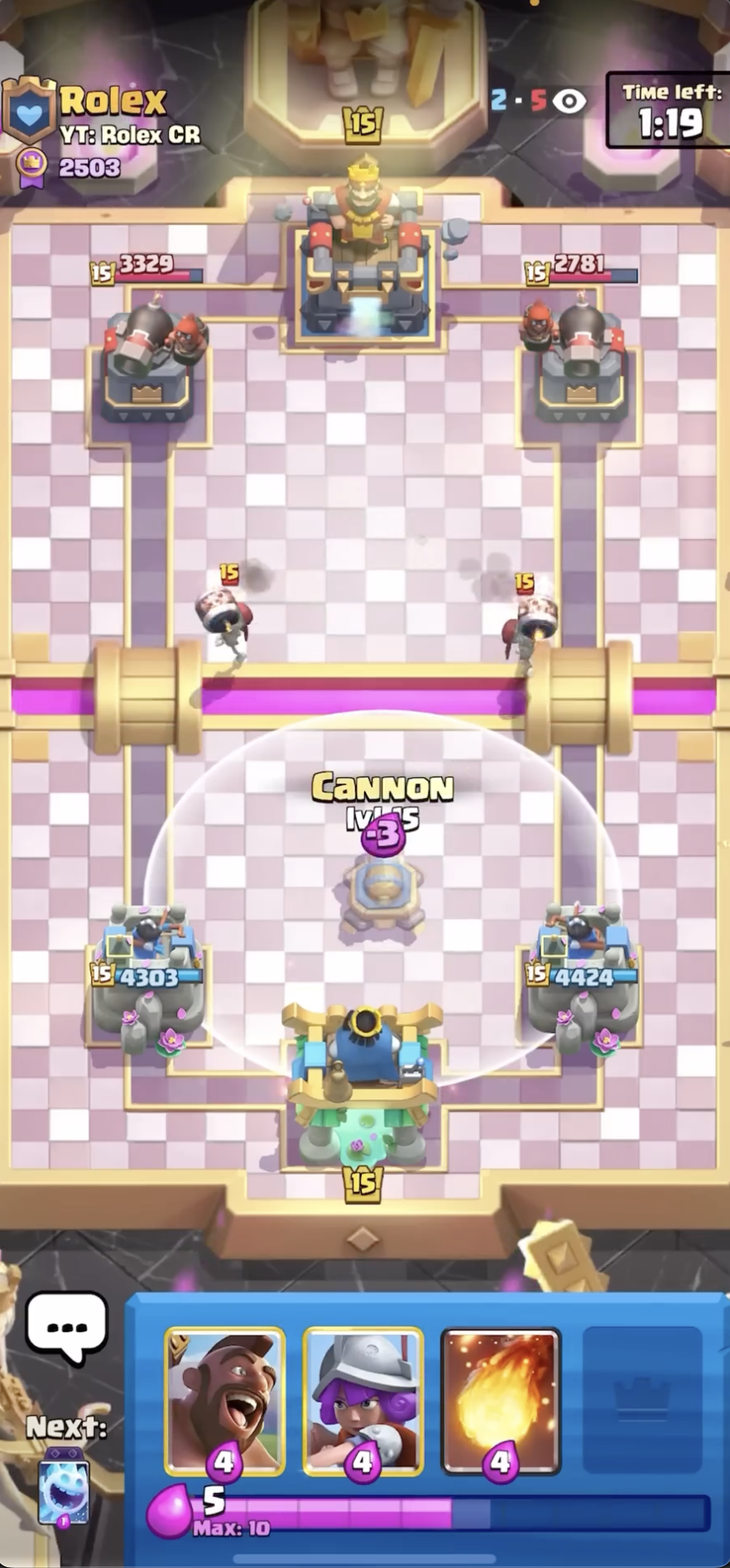wall-breaker: (193, 554, 271, 670), (493, 554, 564, 667)
